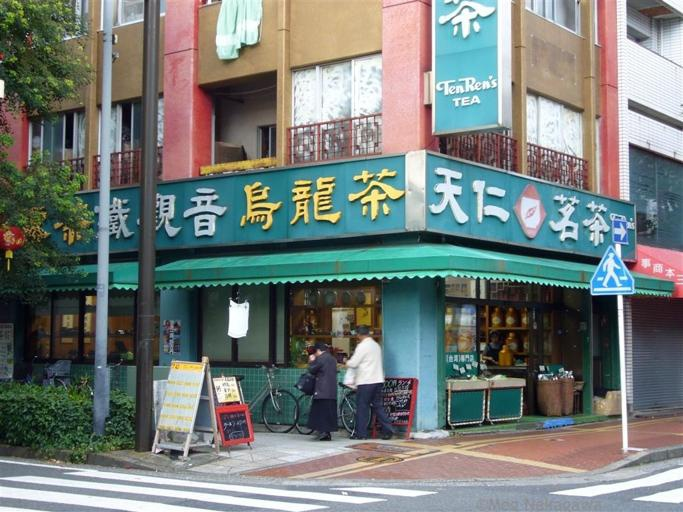non-vehicle: (292, 367, 376, 435), (232, 362, 298, 433)
